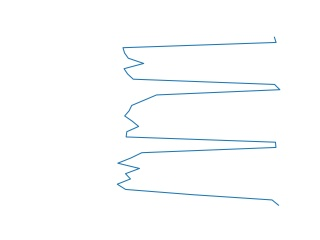majorRiverChannelBar: (115, 36, 286, 208)
